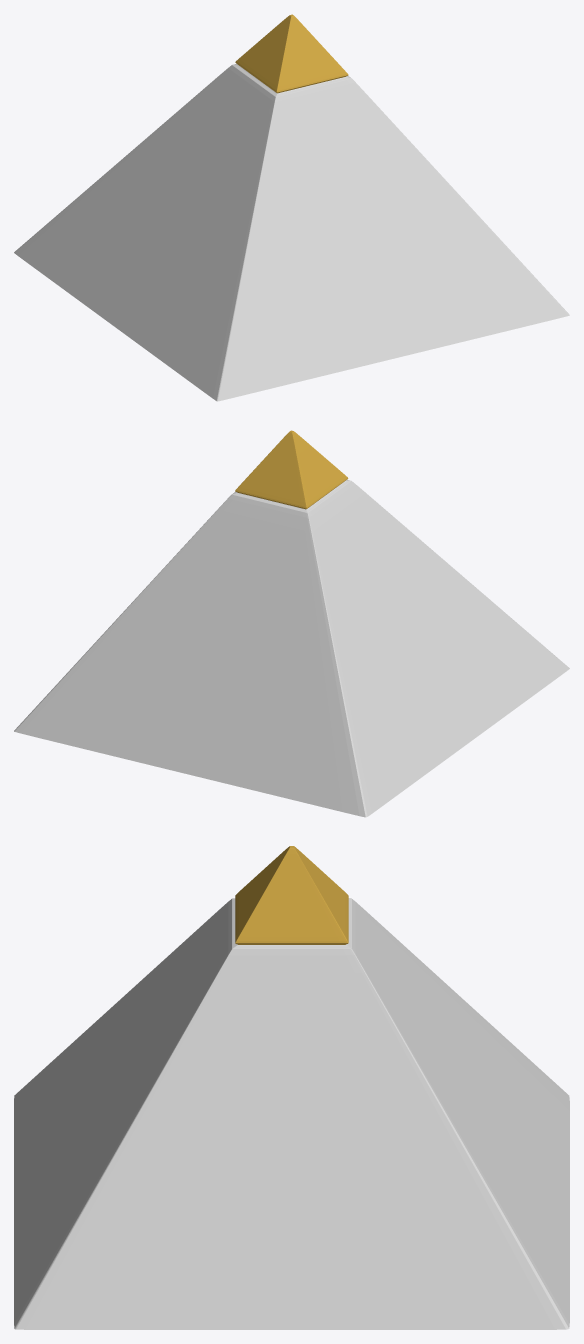
File: pyramide.fbx
3 views of the same model, one above another, from view 1: azimuth 30°, elevation 25°; view 2: azimuth 150°, elevation 25°; view 3: azimuth 270°, elevation 25° (orthographic). The views are drawn at different scales.
Parts seen in each view (by area): view 1: Cube; view 2: Cube; view 3: Cube.
Part boxes in pixels (box(x1,y1,x2,y2)): Cube: box(14, 14, 569, 401); Cube: box(14, 430, 569, 817); Cube: box(14, 846, 569, 1329).
Bounding box in the file's own units: 200 × 145 × 200.
